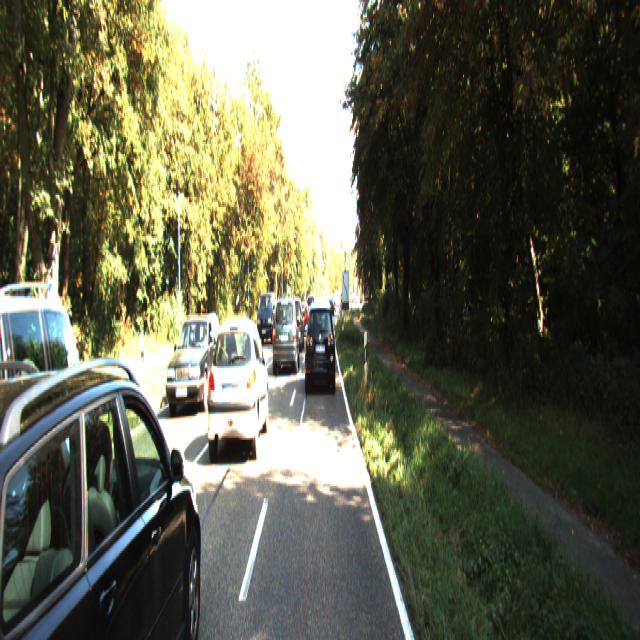Car: (0, 328, 207, 639), (0, 285, 97, 625), (206, 312, 268, 461), (165, 311, 223, 415), (304, 300, 336, 393), (273, 296, 299, 373), (256, 288, 275, 342)
